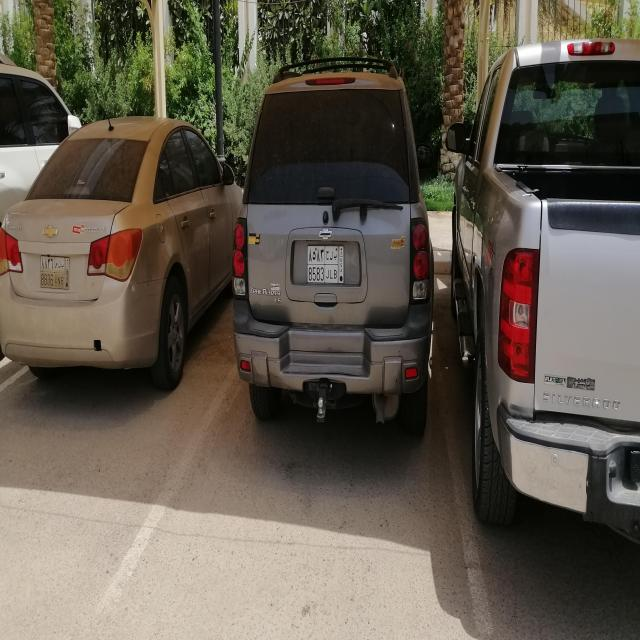license_plate: (307, 243, 344, 284), (40, 254, 69, 290)
